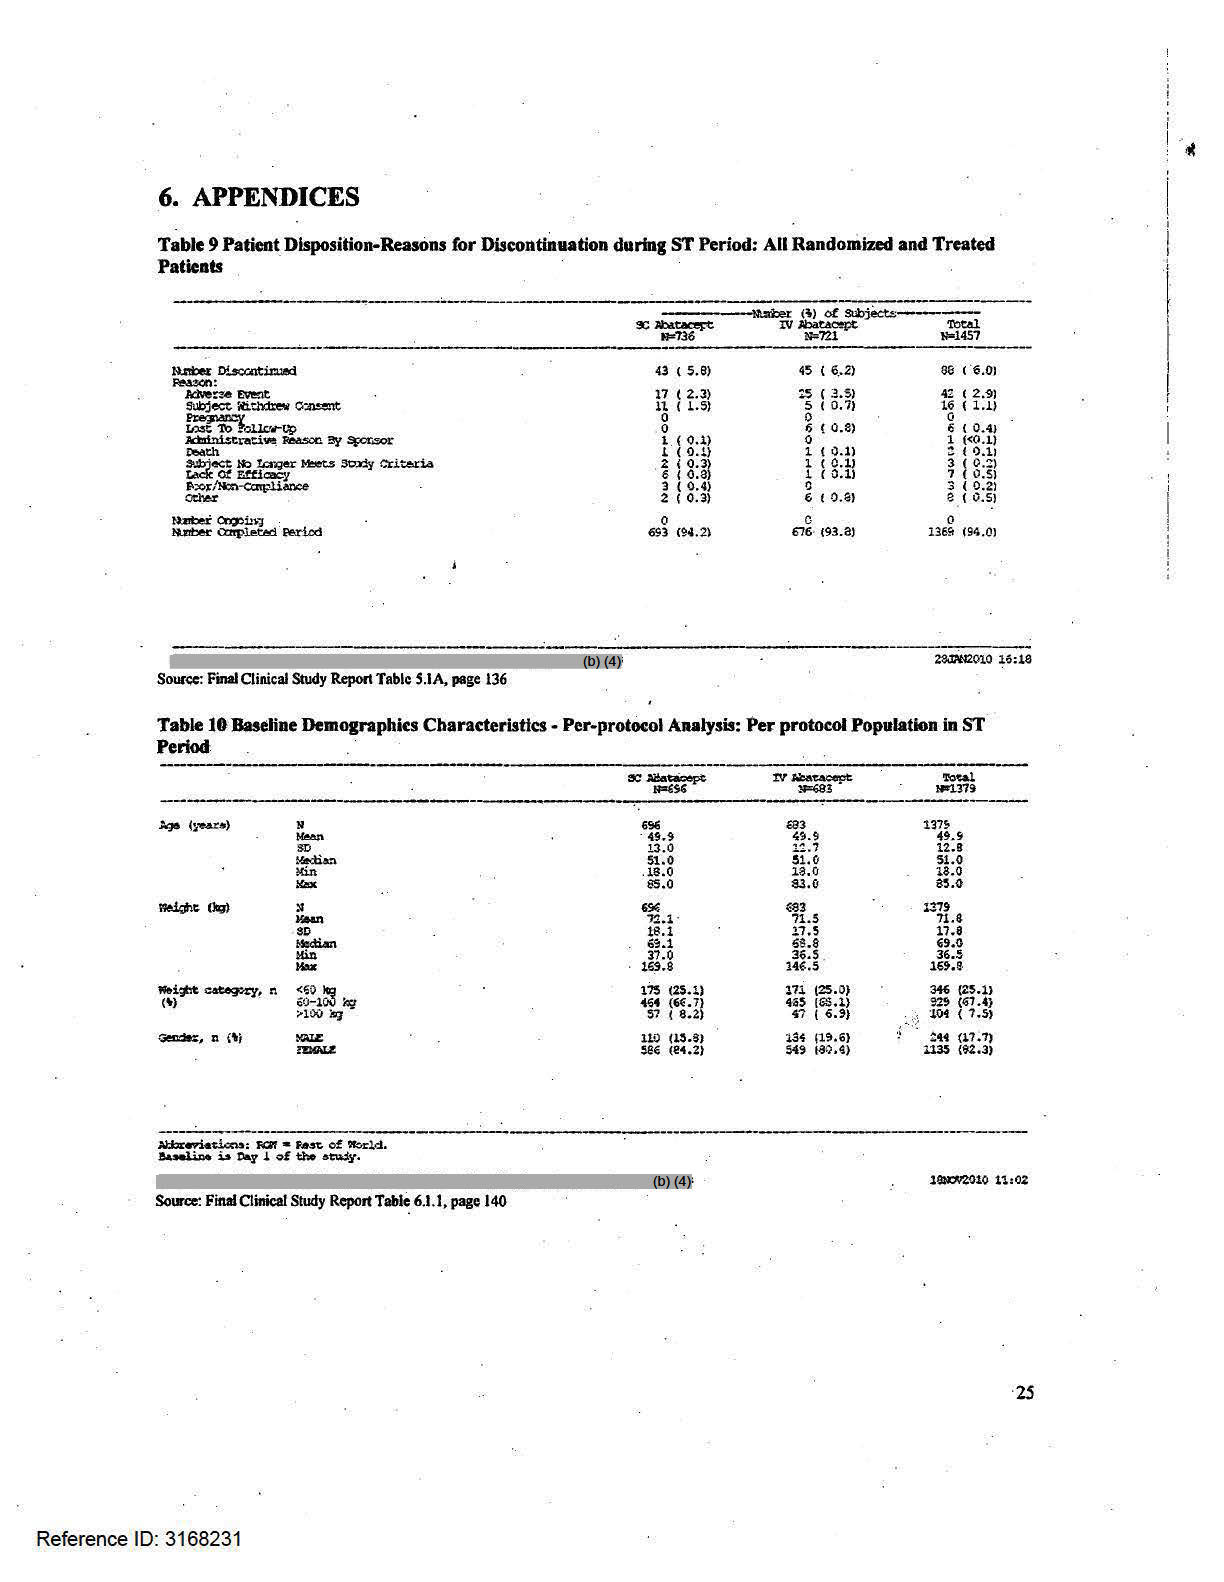partial_lined: (161, 761, 1027, 1061)
partial_lined_merged_cells: (171, 299, 1035, 541)
